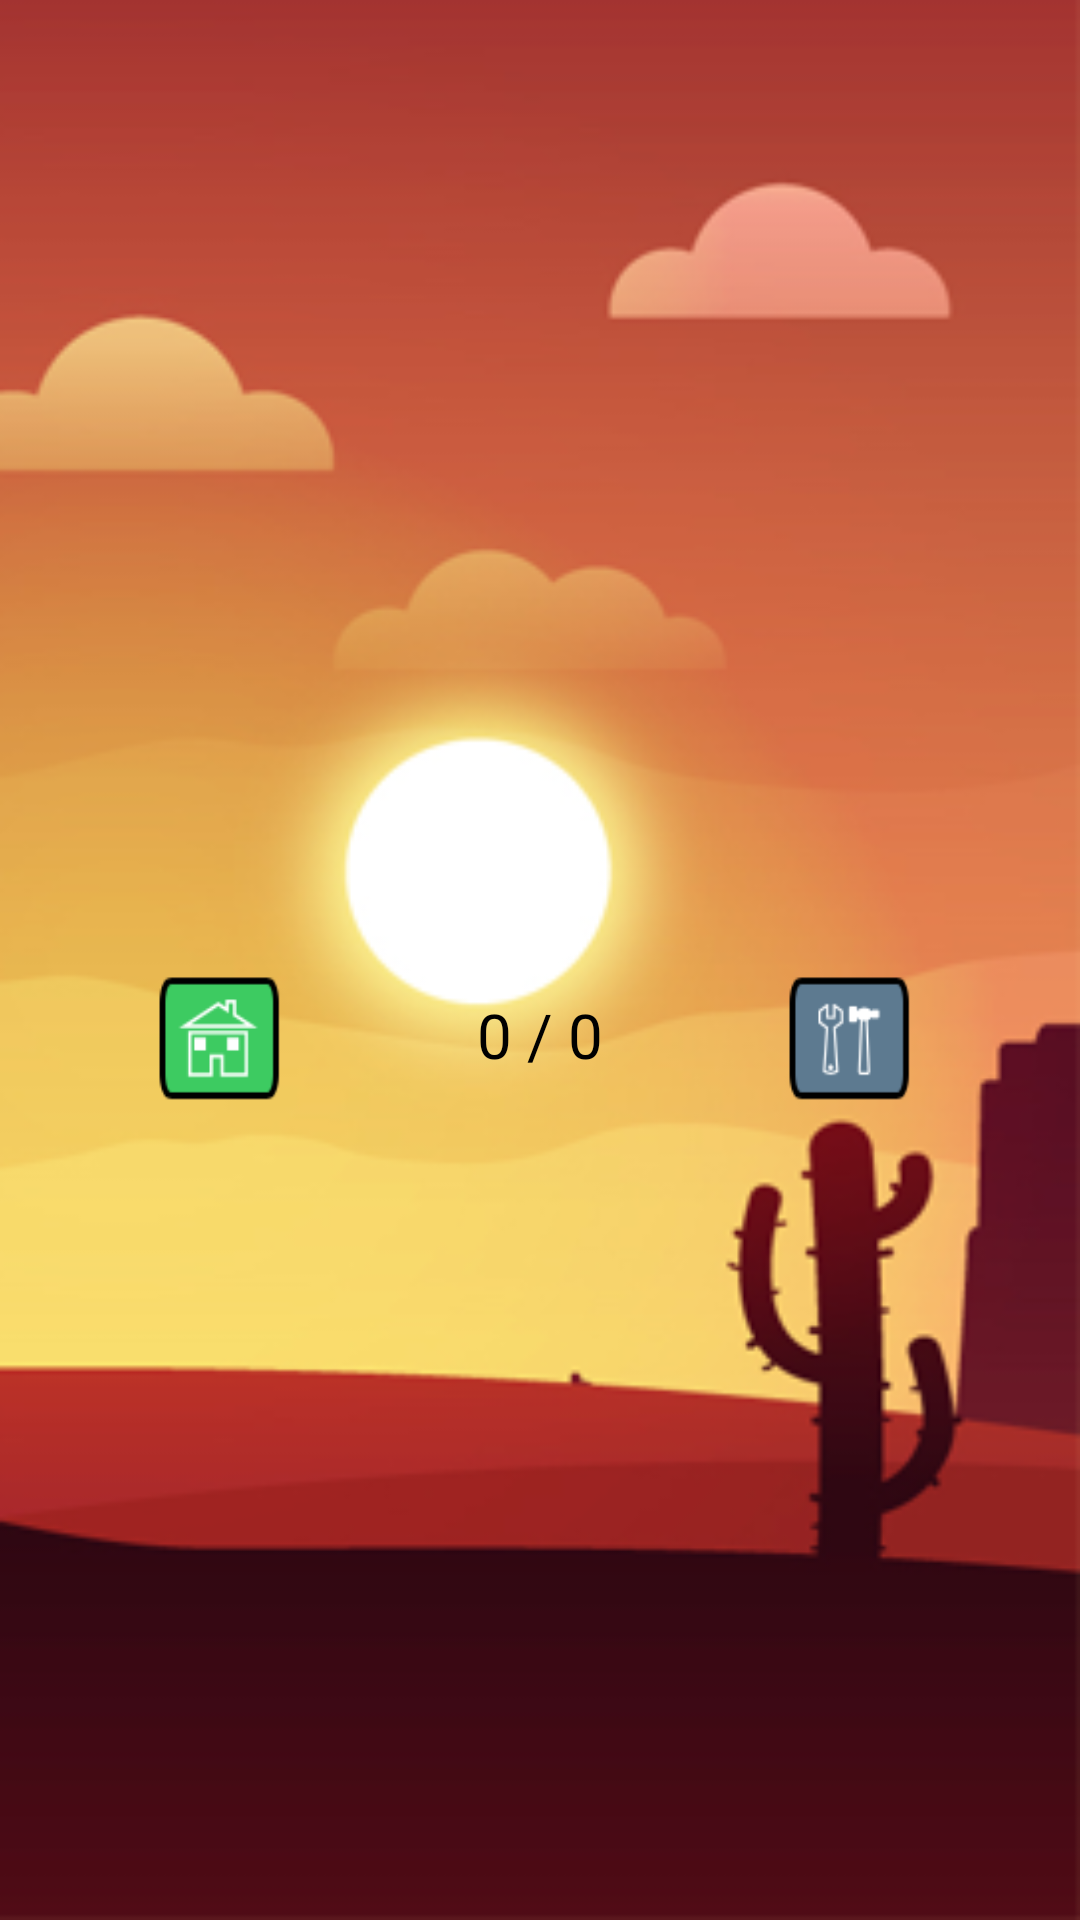

Named icons in this screenshot (1080x1920) and their bounding boxes, (x1, y1, x2, y2):
conf: (780, 960, 930, 1100)
menubtn: (159, 977, 280, 1100)
